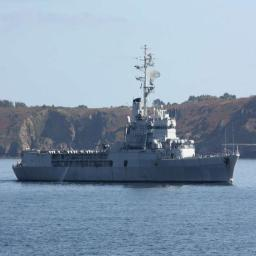Portanaves: (11, 42, 242, 190)
